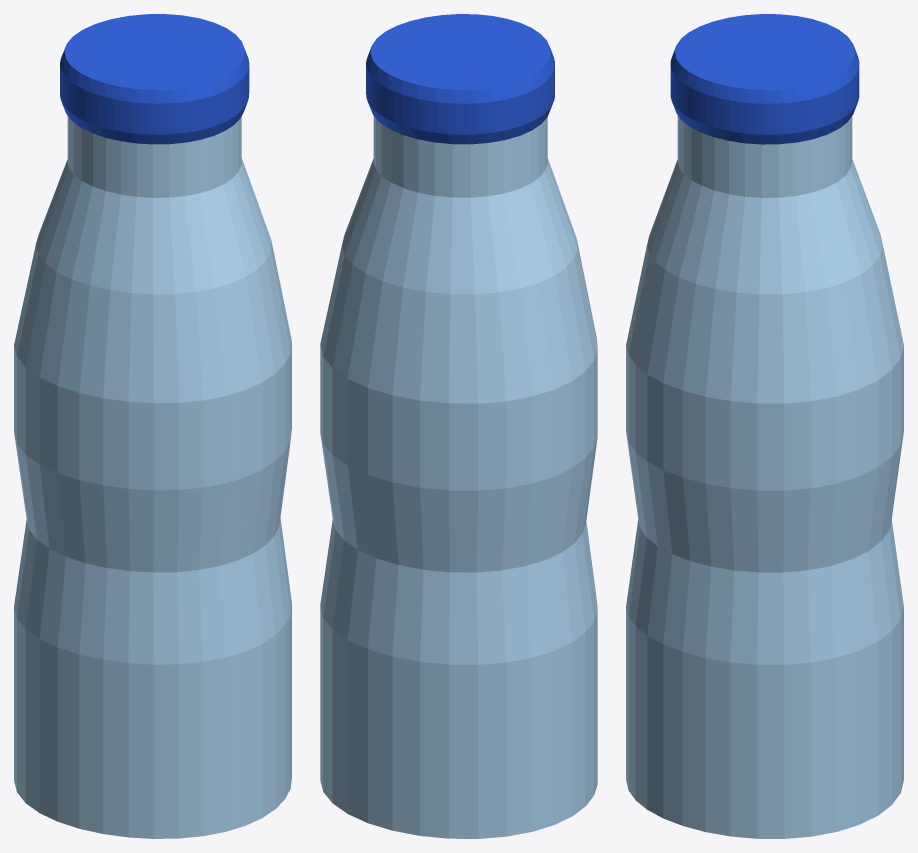
Rendered from lowpolywaterbottle2.fbx.
The picture shows the model from 3 angles, left to right: view 1: azimuth 30°, elevation 25°; view 2: azimuth 150°, elevation 25°; view 3: azimuth 270°, elevation 25°; orthographic projection.
Parts seen in each view (by area): view 1: Cylinder.001; view 2: Cylinder.001; view 3: Cylinder.001.
Part boxes in pixels (bbox=[...]): Cylinder.001: bbox=[14, 14, 291, 838]; Cylinder.001: bbox=[320, 14, 597, 838]; Cylinder.001: bbox=[626, 14, 903, 838].
Bounding box in the file's own units: 414 × 1198 × 414.
